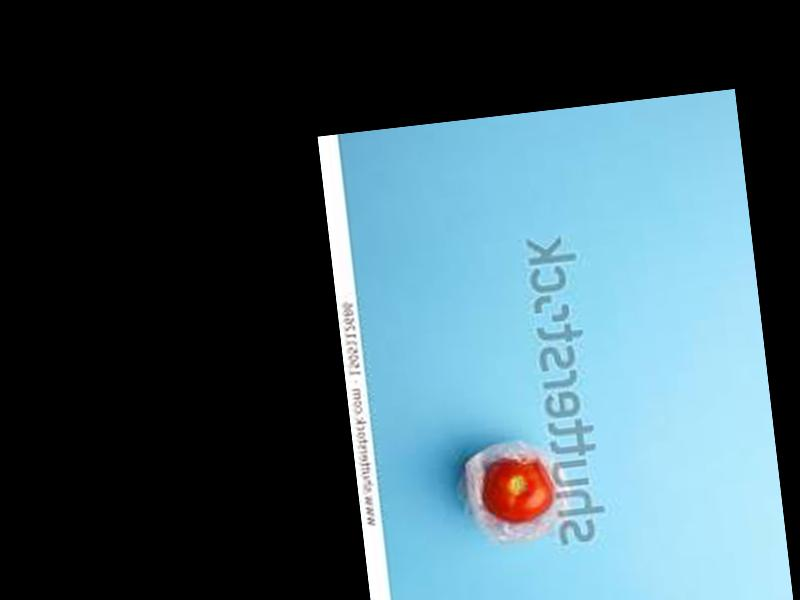Tomato: (480, 452, 556, 524)
